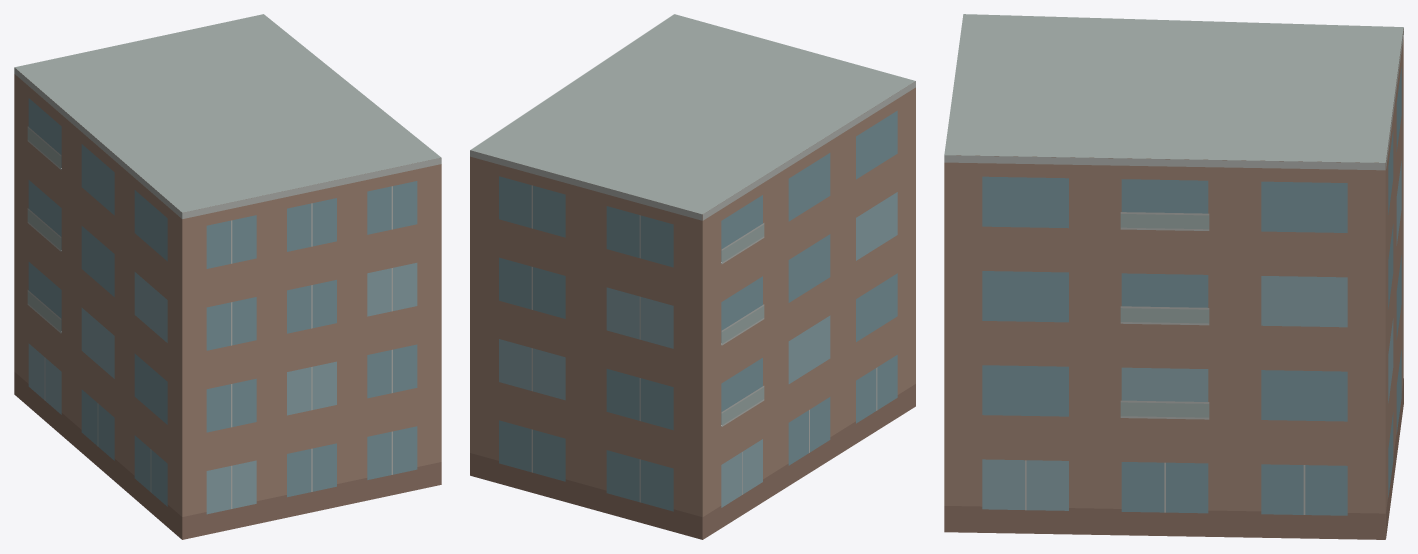
The model's file is survey-upis-32881941.glb.
3 renders of one model, left to right at view 1: azimuth 30°, elevation 25°; view 2: azimuth 150°, elevation 25°; view 3: azimuth 270°, elevation 25°, orthographic. The views are drawn at different scales.
Parts seen in each view (by area): view 1: survey-upis-32881941.tmp; view 2: survey-upis-32881941.tmp; view 3: survey-upis-32881941.tmp.
Part boxes in pixels (<box>): survey-upis-32881941.tmp: <box>14,14,441,539</box>; survey-upis-32881941.tmp: <box>470,14,915,539</box>; survey-upis-32881941.tmp: <box>944,14,1403,539</box>.
Size of the model in its own units: 10.51 by 12.4 by 13.71.
